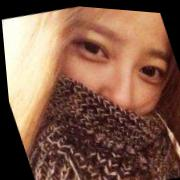WRONG: (39, 3, 179, 140)
